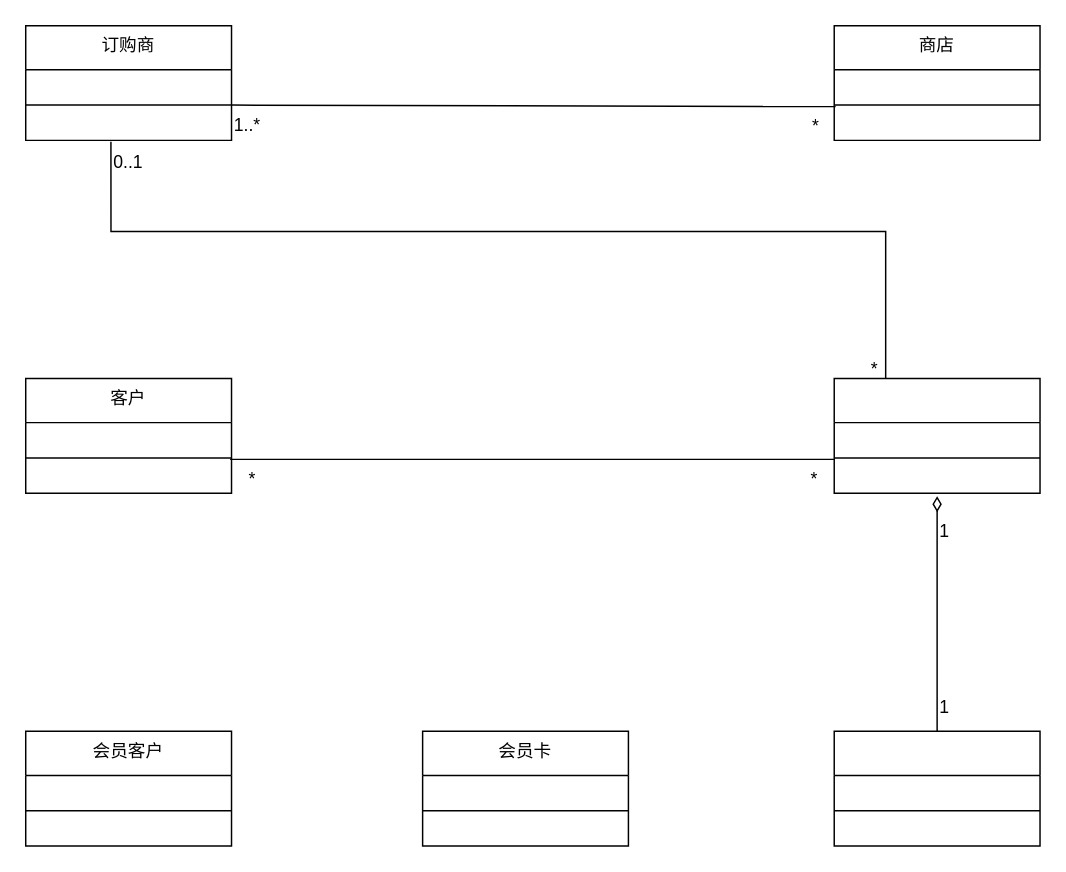
The diagram is 1066 pixels wide and 872 high, and some of its shapes have lost their labels. Here are the shapes that lost their labels. From the top down, the centre of each, then its label:
At pixel 936 435: "光盘".
At pixel 936 788: "条码".
